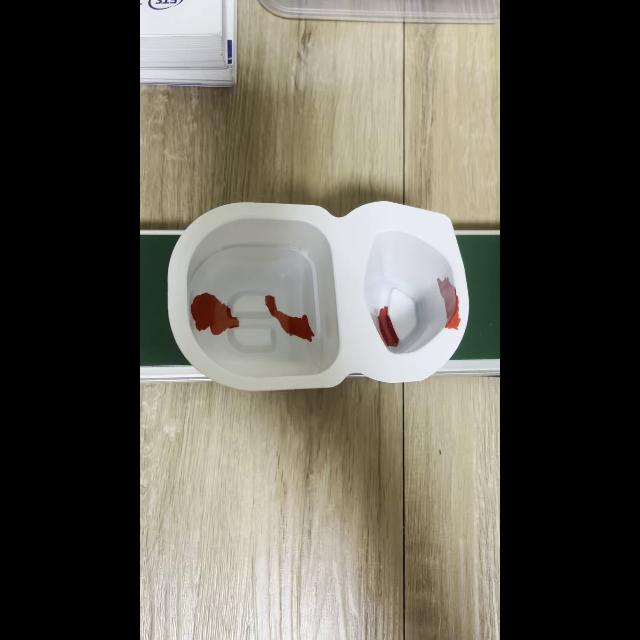dirty: (182, 226, 463, 376)
